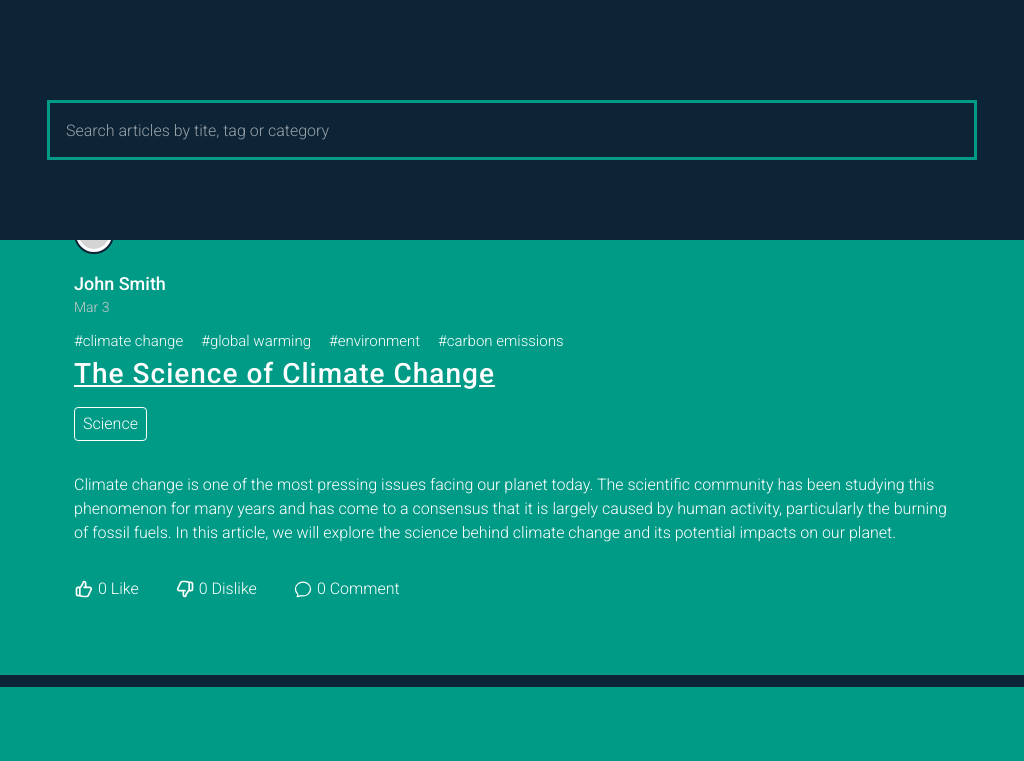
it: registration › should open registration form on click any of the reaction button and should be able to create new user.
The width and height of the screenshot is (1024, 761).
Click the button "0 Like" at (106, 588), box left=74, top=576, right=139, bottom=600
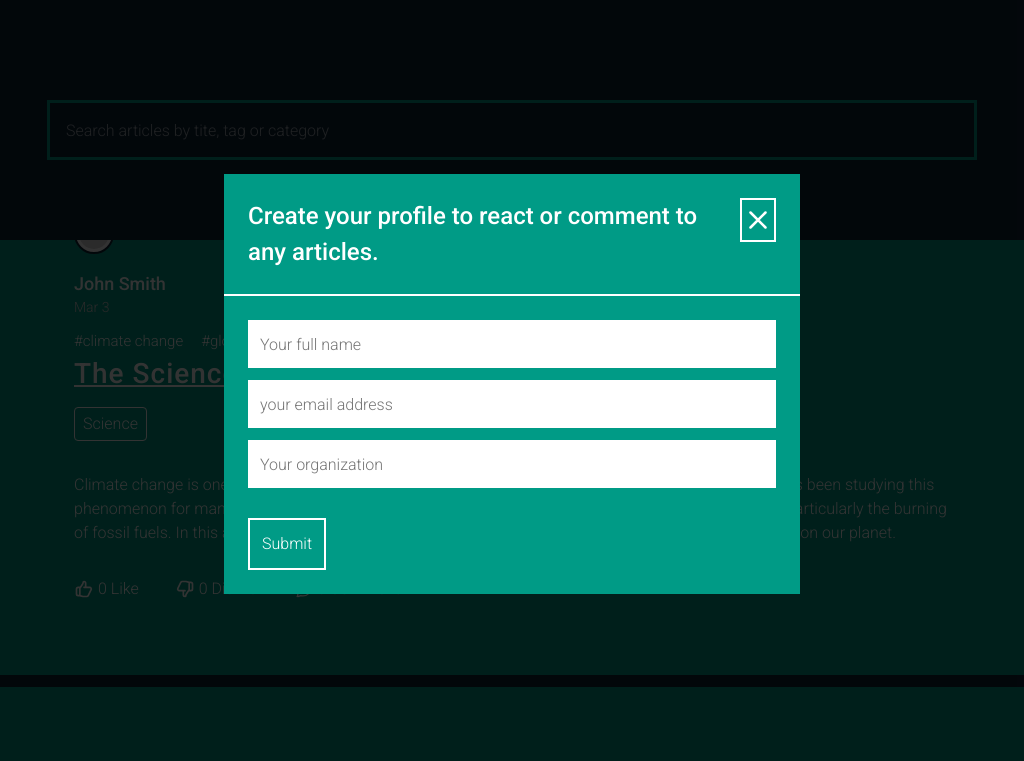
Now the form with test id "user-form" is shown, box left=248, top=320, right=776, bottom=570
